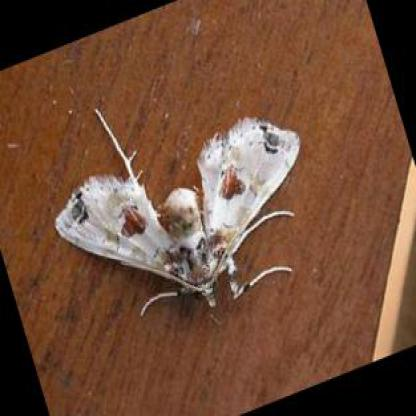leucinodes: (54, 123, 303, 305)
